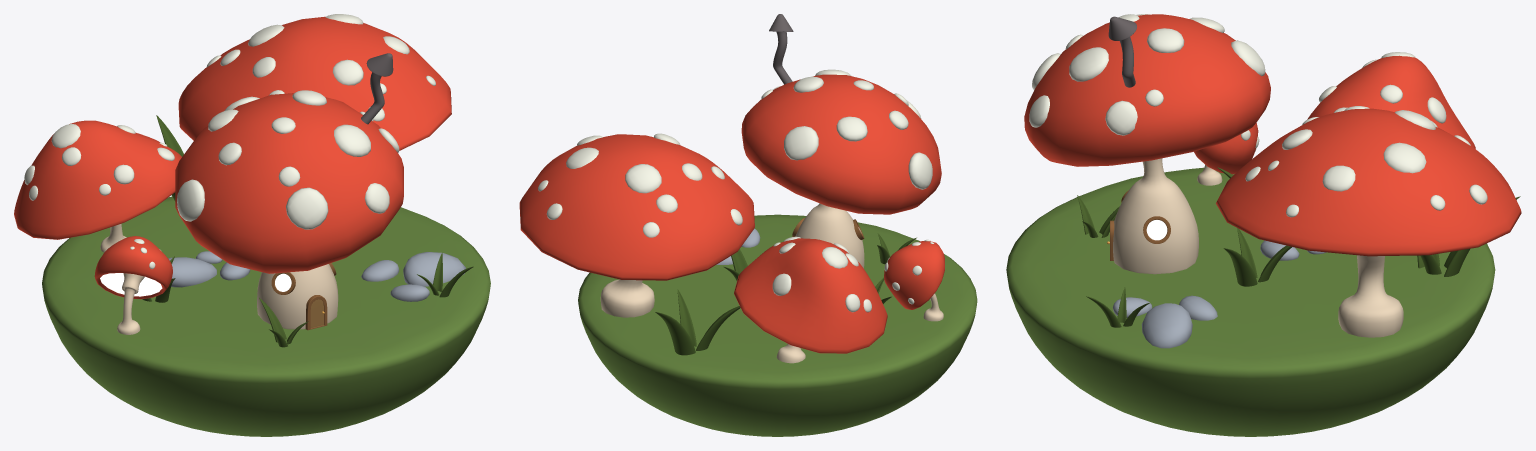
The model's file is house.glb.
3 views of the same model, side by side, from view 1: azimuth 30°, elevation 25°; view 2: azimuth 150°, elevation 25°; view 3: azimuth 270°, elevation 25° (orthographic). The views are drawn at different scales.
Parts seen in each view (by area): view 1: Circle, mushroom 3, mushroom 4, mushroom 2, stem 1, mushroom bottam.003, Cube.054, seed 1.001, Cube.057, chemine, seed 2, seed 3.001 (+7 smaller); view 2: Circle, mushroom 4, mushroom 3, mushroom 2, mushroom bottam.003, stem 1, stem 2, seed 10, seed 12, chemine, seed 2, Cube.060 (+4 smaller); view 3: Circle, mushroom 4, mushroom 3, stem 1, mushroom 2, stem 2, Cube.054, mushroom bottam.003, chemine, seed 3.001, seed 5.002, seed 5 (+6 smaller).
Boxes of the visible parts, left/top/right/bottom form: Circle: left=42, top=196, right=490, bottom=436; mushroom 3: left=175, top=93, right=403, bottom=273; mushroom 4: left=178, top=16, right=451, bottom=150; mushroom 2: left=14, top=120, right=181, bottom=239; stem 1: left=257, top=264, right=338, bottom=329; mushroom bottam.003: left=94, top=236, right=172, bottom=299; Cube.054: left=403, top=252, right=465, bottom=286; seed 1.001: left=286, top=187, right=328, bottom=229; Cube.057: left=168, top=257, right=216, bottom=287; chemine: left=361, top=53, right=393, bottom=124; seed 2: left=177, top=179, right=204, bottom=221; seed 3.001: left=334, top=124, right=370, bottom=156; Circle: left=578, top=214, right=977, bottom=436; mushroom 4: left=519, top=134, right=754, bottom=280; mushroom 3: left=741, top=74, right=941, bottom=214; mushroom 2: left=734, top=238, right=887, bottom=353; mushroom bottam.003: left=884, top=241, right=944, bottom=309; stem 1: left=795, top=203, right=864, bottom=268; stem 2: left=600, top=279, right=654, bottom=317; seed 10: left=784, top=126, right=818, bottom=160; seed 12: left=625, top=164, right=661, bottom=193; chemine: left=769, top=14, right=793, bottom=84; seed 2: left=908, top=152, right=932, bottom=189; Cube.060: left=655, top=312, right=695, bottom=355; Circle: left=1006, top=167, right=1495, bottom=436; mushroom 4: left=1216, top=108, right=1521, bottom=256; mushroom 3: left=1024, top=14, right=1270, bottom=166; stem 1: left=1113, top=158, right=1198, bottom=274; mushroom 2: left=1307, top=55, right=1475, bottom=148; stem 2: left=1338, top=255, right=1403, bottom=337; Cube.054: left=1141, top=303, right=1192, bottom=348; mushroom bottam.003: left=1194, top=122, right=1258, bottom=174; chemine: left=1108, top=16, right=1136, bottom=87; seed 3.001: left=1069, top=47, right=1108, bottom=81; seed 5.002: left=1383, top=142, right=1426, bottom=173; seed 5: left=1105, top=100, right=1137, bottom=135.
Bounding box in the file's own units: 44.09 × 39.34 × 43.85.
